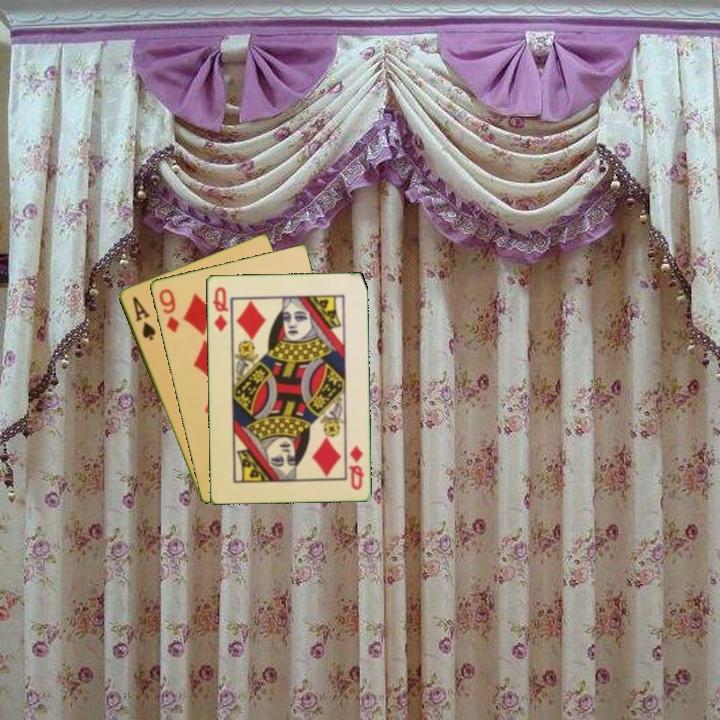9d: (155, 285, 182, 336)
As: (128, 293, 158, 343)
Qd: (209, 283, 231, 334), (345, 442, 366, 493)
